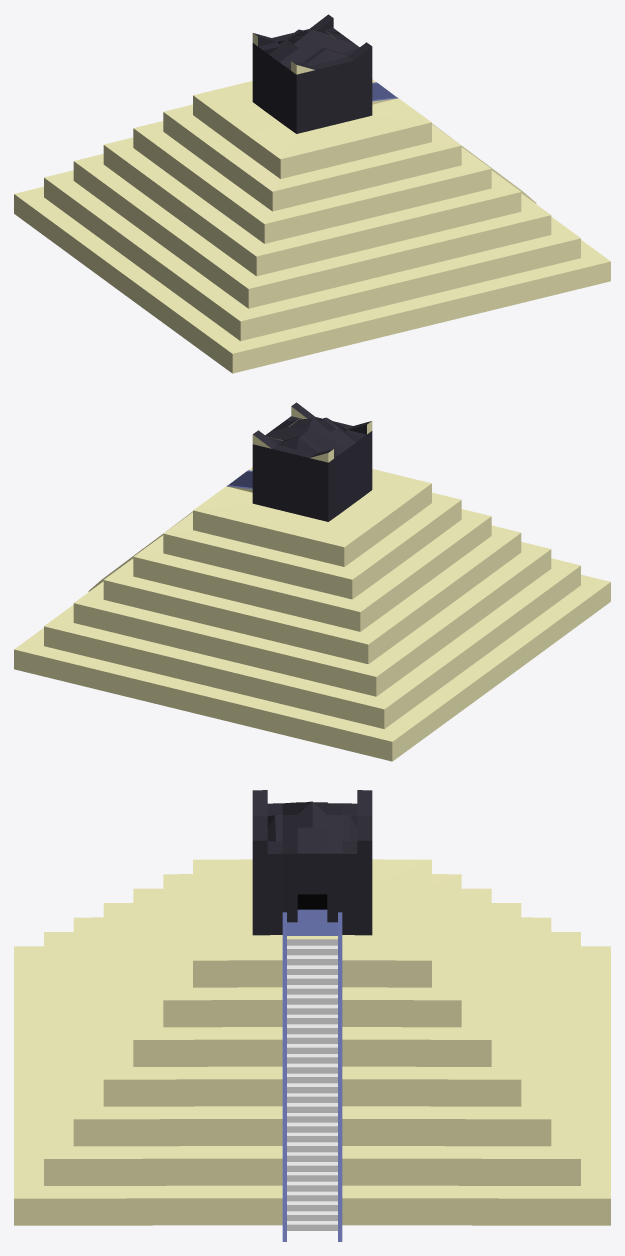
3 renders of one model, top to bottom at view 1: azimuth 30°, elevation 25°; view 2: azimuth 150°, elevation 25°; view 3: azimuth 270°, elevation 25°, orthographic. The views are drawn at different scales.
Visible parts, largest first — view 1: Pyramid; view 2: Pyramid; view 3: Pyramid.
Part boxes in pixels (x1,y1,x2,y2): Pyramid: (14,14,610,373); Pyramid: (14,402,610,761); Pyramid: (14,790,610,1241).
Bounding box in the file's own units: 2130 × 1102 × 2000.
